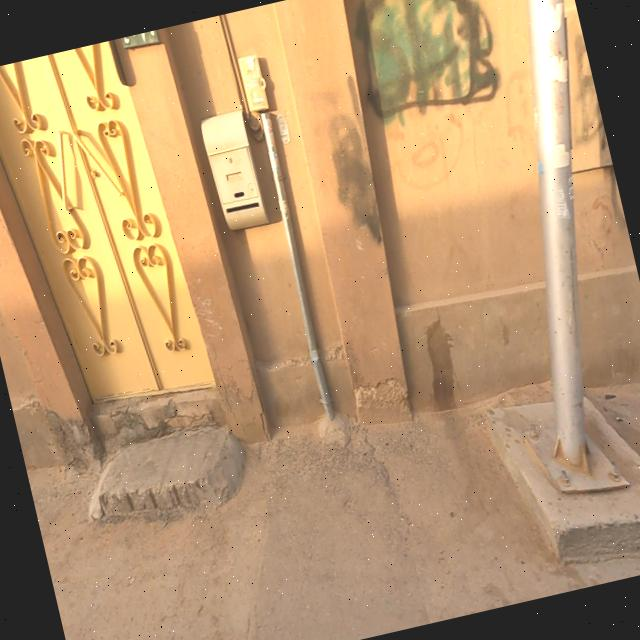Graffiti: (340, 0, 507, 127), (386, 105, 494, 286), (566, 32, 630, 247), (310, 72, 384, 250), (490, 70, 536, 142)
